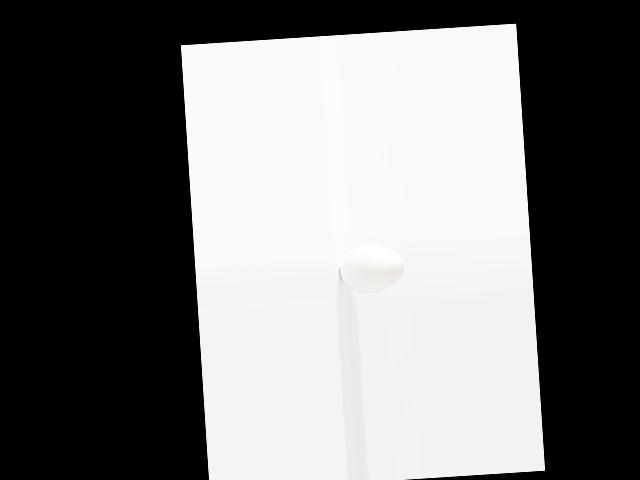egg: (338, 242, 405, 294)
